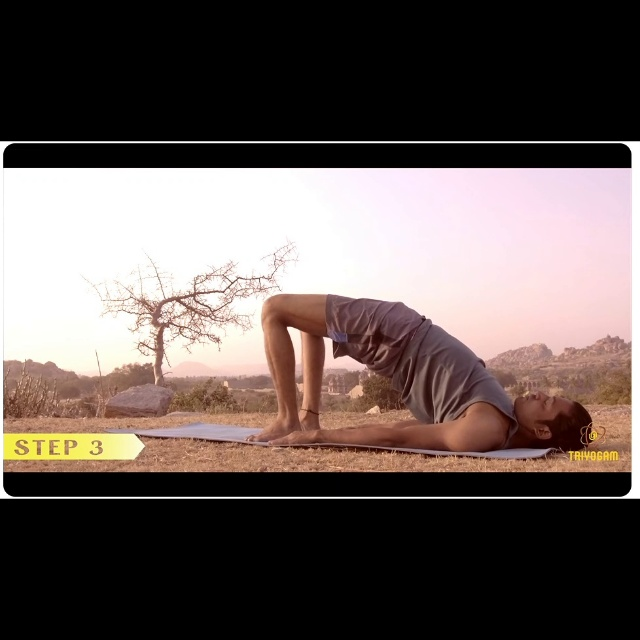Bridge_Pose: (245, 284, 604, 460)
